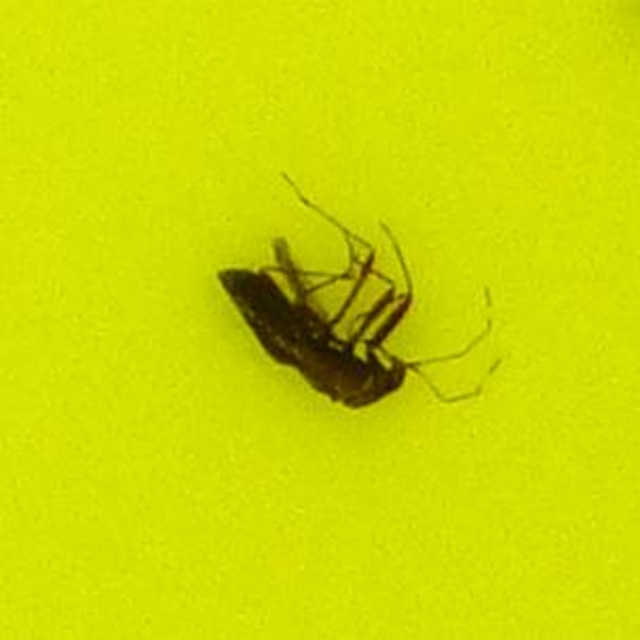Hymenoptera: (211, 218, 429, 422)
